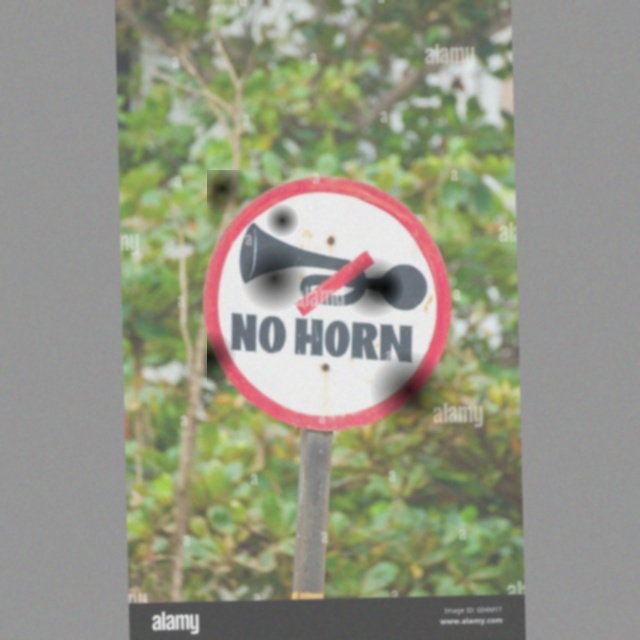Horn_Prohibited: (207, 170, 451, 436)
